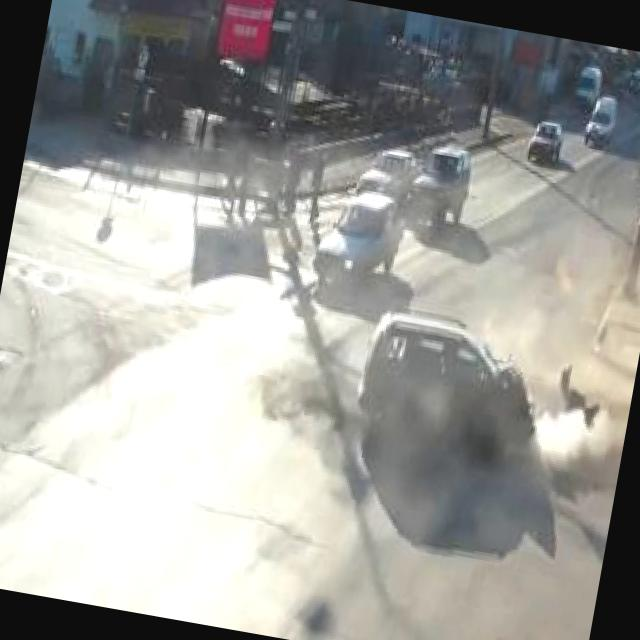car: (349, 305, 551, 467), (306, 185, 408, 306), (401, 138, 479, 237), (358, 145, 424, 204), (520, 114, 568, 168), (580, 91, 621, 152), (571, 60, 604, 104)
